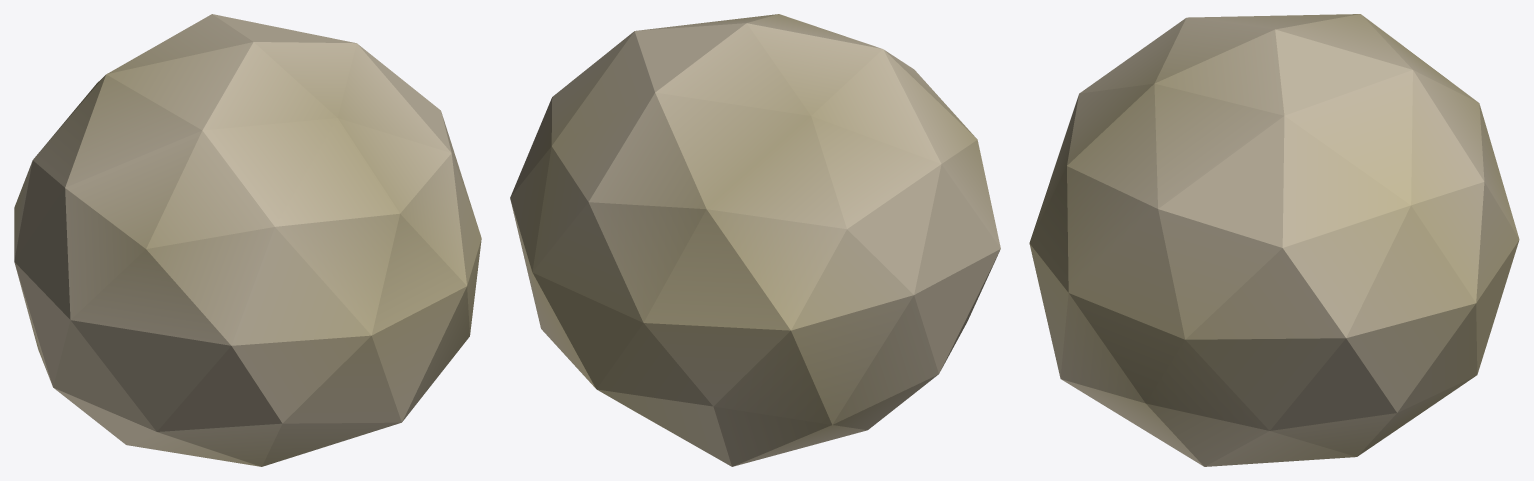
Rendered from cantaloupe.glb.
3 views of the same model, side by side, from view 1: azimuth 30°, elevation 25°; view 2: azimuth 150°, elevation 25°; view 3: azimuth 270°, elevation 25° (orthographic). The views are drawn at different scales.
Visible parts, largest first — view 1: Cantaloupe; view 2: Cantaloupe; view 3: Cantaloupe.
Boxes of the visible parts, <box> form: Cantaloupe: <box>14,14,481,466</box>; Cantaloupe: <box>510,14,1000,466</box>; Cantaloupe: <box>1029,14,1519,466</box>.
Size of the model in its own units: 0.178 by 0.1612 by 0.1731.
